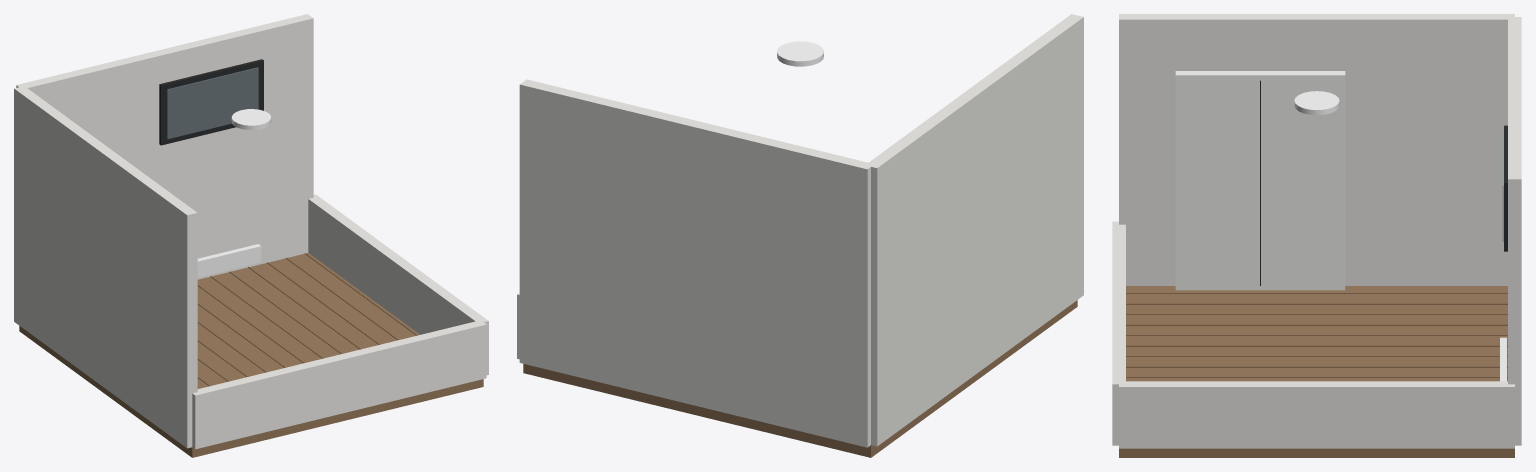
File: bedroom-v1.glb
The picture shows the model from 3 angles, left to right: view 1: azimuth 30°, elevation 25°; view 2: azimuth 150°, elevation 25°; view 3: azimuth 270°, elevation 25°; orthographic projection. The views are drawn at different scales.
Visible parts, largest first — view 1: left wall, back wall, wood floor, front low wall, right low wall, window frame, window glass, baseboard heater, ceiling light; view 2: back wall, left wall, wood floor, ceiling light; view 3: left wall, wood floor, bifold closet, right low wall, back wall, plank seam (×4), front low wall, ceiling light, window frame.
Part boxes in pixels (x1=…): left wall: x1=14, y1=87, x2=197, y2=448; back wall: x1=16, y1=14, x2=313, y2=279; wood floor: x1=19, y1=253, x2=483, y2=457; front low wall: x1=192, y1=321, x2=486, y2=449; right low wall: x1=308, y1=194, x2=488, y2=375; window frame: x1=159, y1=59, x2=263, y2=145; window glass: x1=167, y1=67, x2=258, y2=138; baseboard heater: x1=197, y1=244, x2=261, y2=277; ceiling light: x1=231, y1=109, x2=271, y2=129; back wall: x1=519, y1=79, x2=874, y2=447; left wall: x1=868, y1=14, x2=1083, y2=446; wood floor: x1=523, y1=300, x2=1077, y2=457; ceiling light: x1=777, y1=41, x2=823, y2=66; left wall: x1=1119, y1=14, x2=1514, y2=285; wood floor: x1=1119, y1=286, x2=1514, y2=457; bifold closet: x1=1175, y1=71, x2=1345, y2=290; right low wall: x1=1119, y1=381, x2=1514, y2=448; back wall: x1=1508, y1=17, x2=1521, y2=445; plank seam (×4): x1=1126, y1=303, x2=1507, y2=367; front low wall: x1=1112, y1=221, x2=1125, y2=445; ceiling light: x1=1294, y1=91, x2=1339, y2=115; window frame: x1=1504, y1=125, x2=1507, y2=251.
Size of the model in its own units: 3.52 by 2.72 by 3.62.
